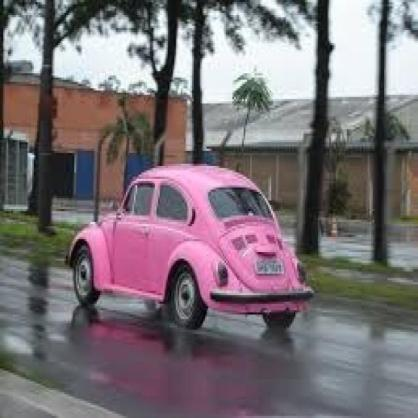car: (69, 163, 315, 334)
